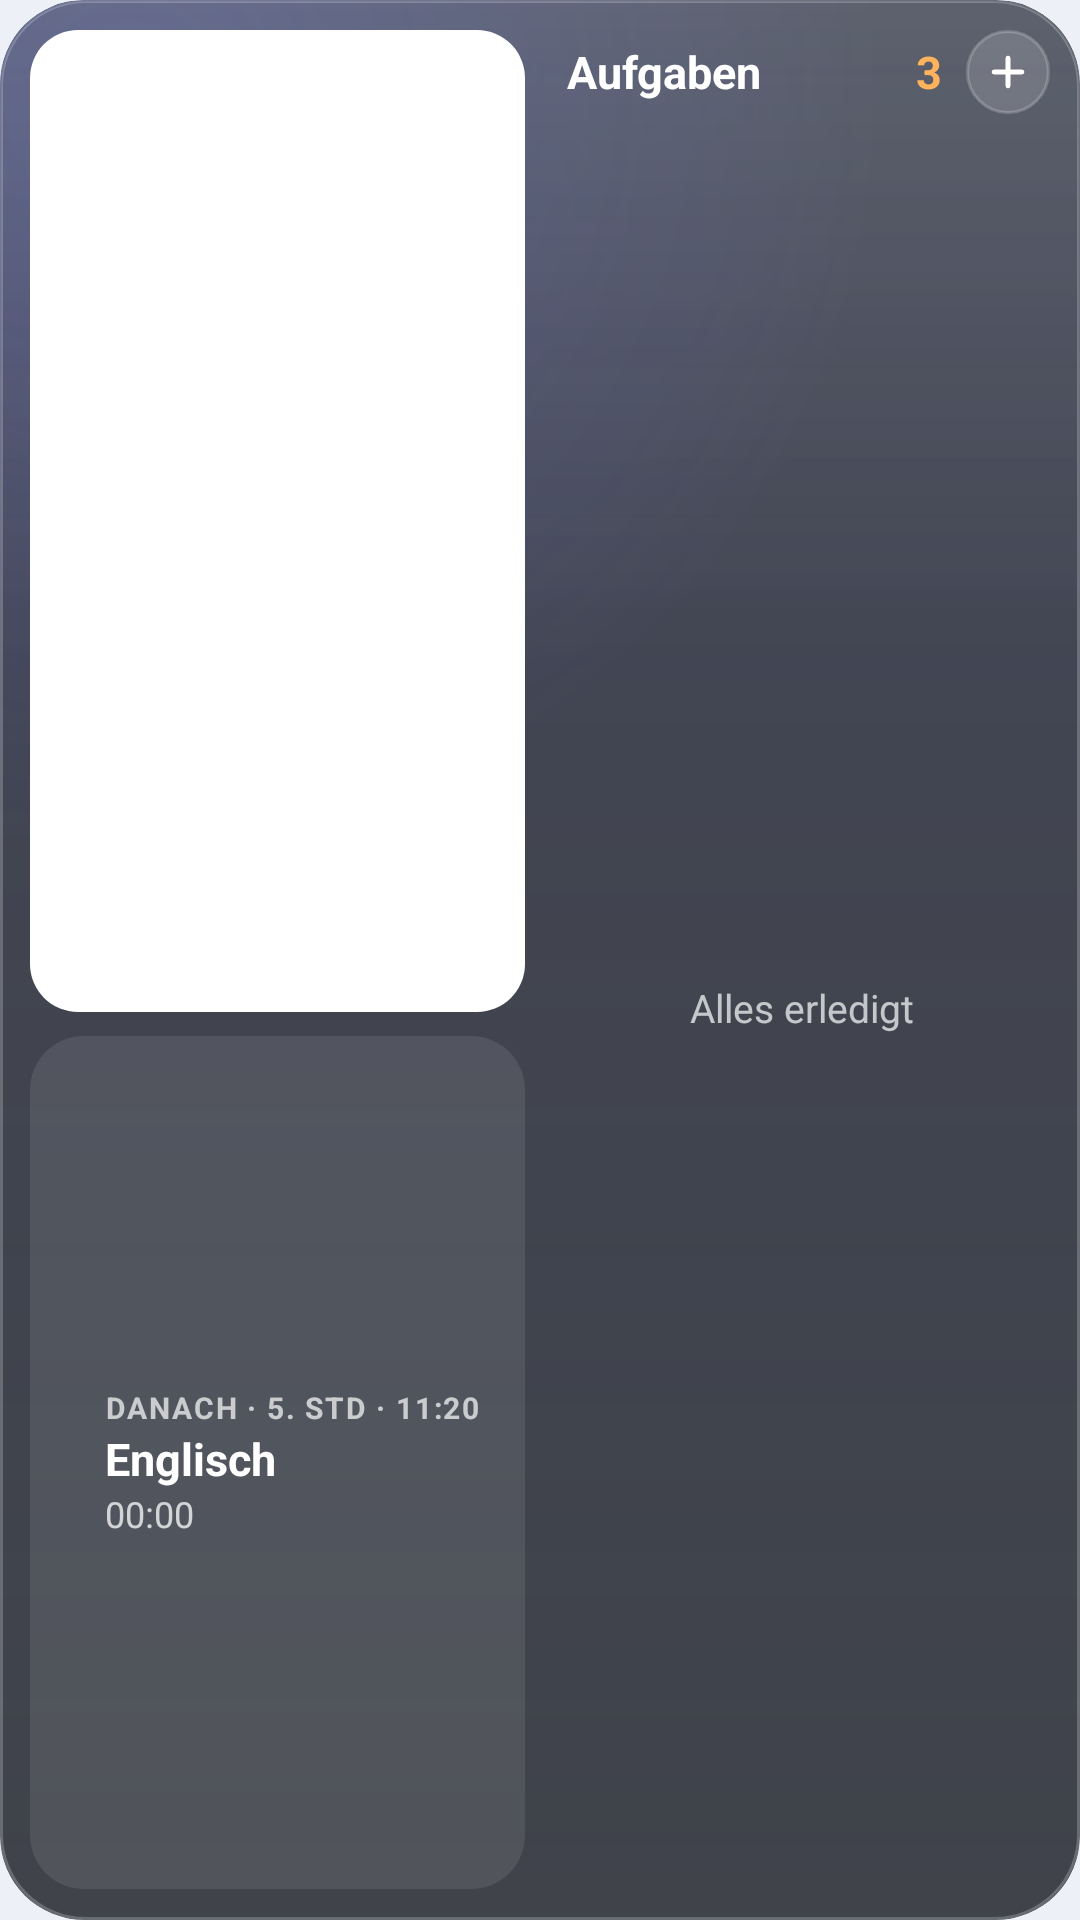

Named icons in this screenshot (1080w x 1920h) and their centers, (x,y):
Aufgabe hinzufügen: (1008,72)
